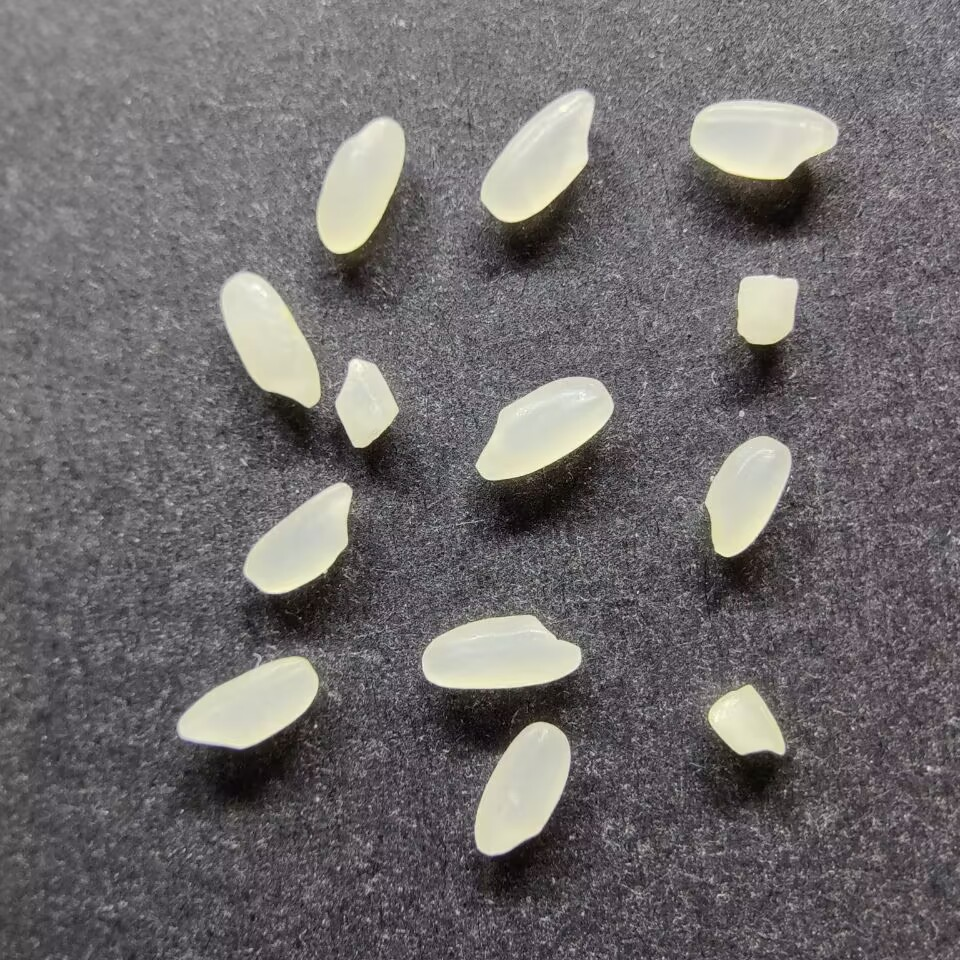broken: (706, 682, 786, 758), (334, 357, 400, 448), (734, 272, 799, 346)
rice: (479, 87, 595, 223), (473, 375, 614, 481), (219, 272, 322, 409), (176, 654, 319, 750), (473, 719, 571, 857), (242, 481, 353, 595), (420, 614, 582, 691), (315, 116, 405, 254), (688, 98, 839, 180), (703, 434, 791, 558)
